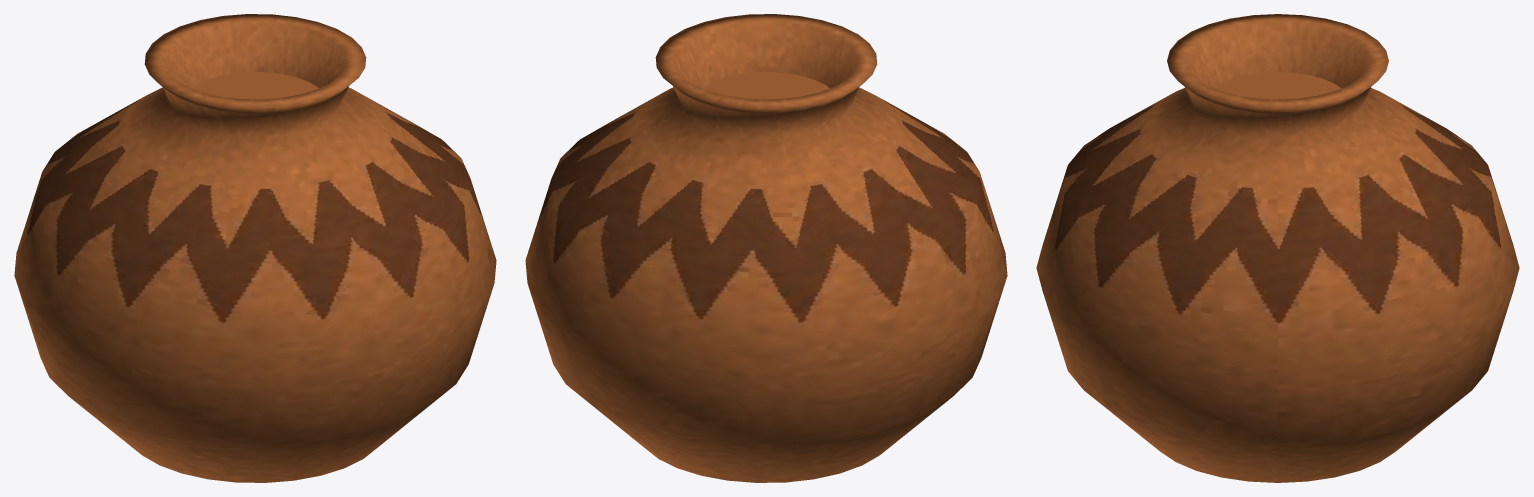
Rendered from canari.glb.
3 renders of one model, left to right at view 1: azimuth 30°, elevation 25°; view 2: azimuth 150°, elevation 25°; view 3: azimuth 270°, elevation 25°, orthographic.
Parts seen in each view (by area): view 1: canari; view 2: canari; view 3: canari.
Part boxes in pixels (bbox=[...]): canari: bbox=[14, 14, 496, 482]; canari: bbox=[525, 14, 1007, 482]; canari: bbox=[1036, 14, 1519, 482].
Bounding box in the file's own units: 0.74 × 0.65 × 0.74.
1 material, 1 textured.
